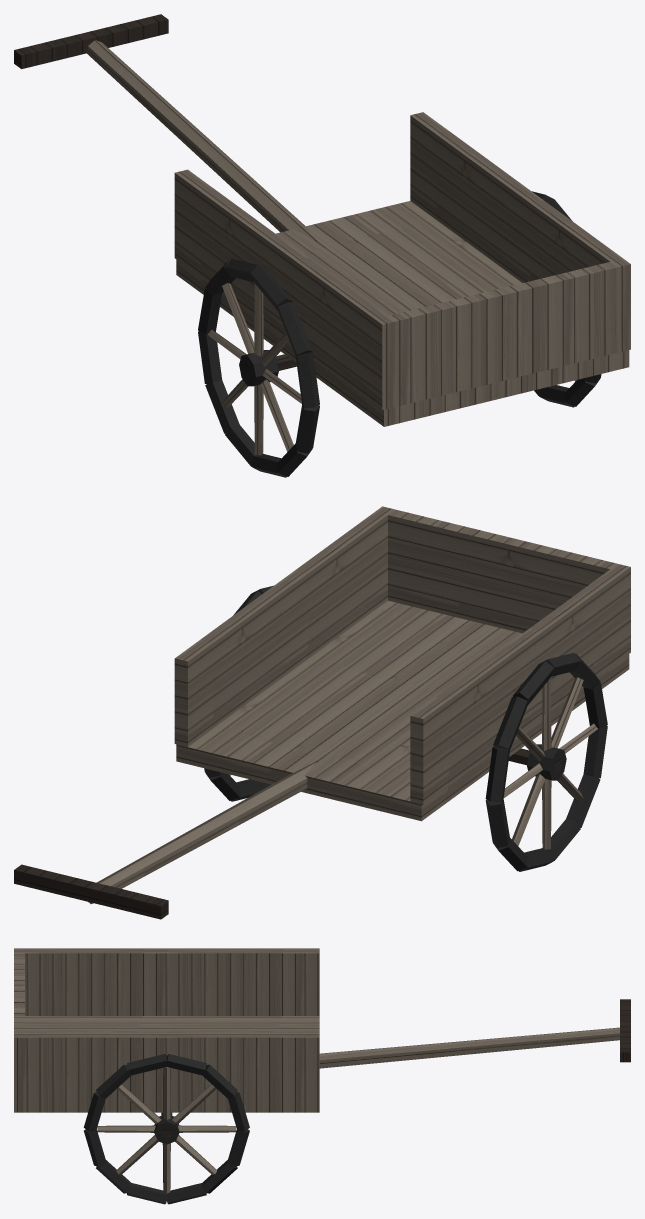
The model's file is ox_cart_01.glb.
3 views of the same model, one above another, from view 1: azimuth 30°, elevation 25°; view 2: azimuth 150°, elevation 25°; view 3: azimuth 270°, elevation 25° (orthographic). The views are drawn at different scales.
Visible parts, largest first — view 1: ox_cart_01; view 2: ox_cart_01; view 3: ox_cart_01.
Boxes of the visible parts, x1,y1,x2,y2 form: ox_cart_01: [14, 14, 630, 477]; ox_cart_01: [14, 506, 630, 919]; ox_cart_01: [14, 948, 630, 1204].
Bounding box in the file's own units: 1.9 × 1.27 × 4.44.
Materials: 3 (3 with a texture image).
